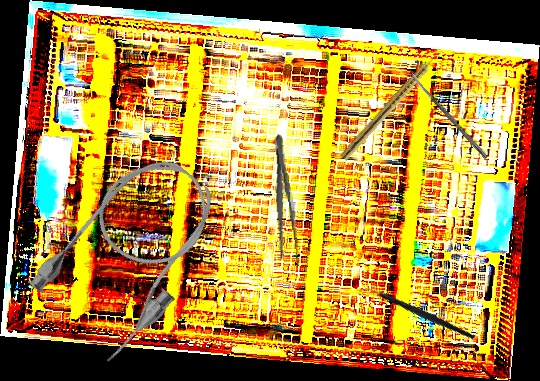Cannula: (20, 137, 243, 370)
Chopper: (357, 254, 476, 374)
Dressing Forceps: (266, 132, 303, 272)
Handpiece: (339, 50, 443, 164)
Surgical Spoon: (407, 69, 489, 160)
